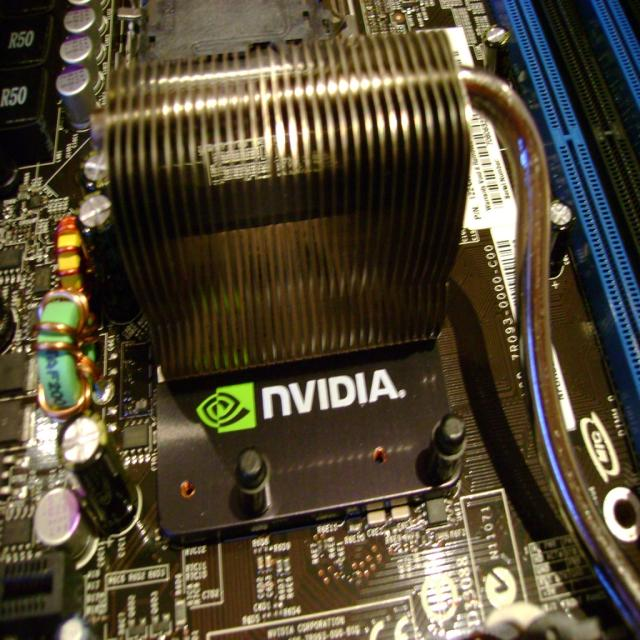nvidia: (197, 383, 258, 434)
